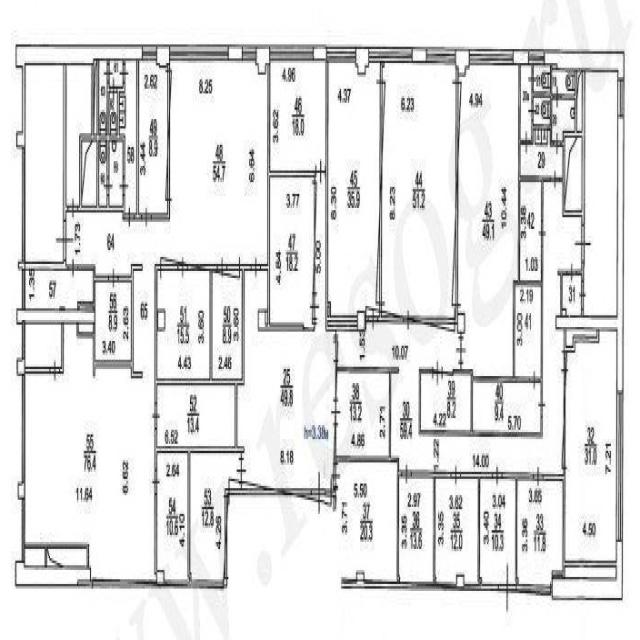Bathrooms: (120, 63, 137, 211), (522, 130, 562, 174), (553, 100, 575, 140), (110, 144, 122, 207), (554, 72, 575, 92), (534, 98, 550, 124), (100, 62, 106, 131), (534, 67, 550, 91), (100, 142, 106, 203), (110, 62, 122, 85), (110, 95, 117, 131)
Corridors: (25, 65, 267, 578), (339, 187, 580, 472), (239, 176, 334, 485), (140, 62, 167, 211), (481, 481, 515, 584), (474, 383, 540, 430), (422, 375, 470, 432), (26, 273, 92, 306), (516, 286, 540, 376), (520, 183, 540, 279), (26, 327, 60, 367), (521, 65, 531, 140), (564, 277, 580, 313)
Doors: (311, 470, 331, 518), (498, 561, 515, 613), (55, 220, 73, 261), (574, 225, 592, 261), (401, 307, 420, 331), (66, 257, 81, 280), (234, 458, 248, 481), (550, 166, 562, 192), (432, 358, 443, 386), (315, 157, 325, 186), (123, 203, 134, 229), (552, 131, 563, 157), (455, 337, 466, 363), (368, 308, 379, 333), (177, 253, 187, 280), (217, 255, 227, 282), (537, 219, 547, 246), (67, 196, 78, 220), (141, 205, 152, 229), (309, 292, 320, 316), (521, 129, 531, 155), (330, 401, 341, 424), (578, 281, 587, 309), (553, 84, 563, 109), (533, 465, 544, 487), (49, 359, 59, 383), (119, 172, 129, 196), (561, 356, 569, 386), (537, 395, 547, 419), (151, 403, 160, 429), (103, 63, 113, 86), (492, 464, 502, 487), (251, 256, 261, 278), (118, 62, 129, 82), (567, 261, 577, 283), (103, 176, 114, 195), (152, 469, 160, 495), (528, 100, 537, 123), (530, 369, 538, 393), (109, 267, 118, 288), (403, 462, 411, 485), (452, 463, 460, 486), (528, 69, 536, 89), (110, 76, 116, 102), (334, 333, 339, 362)
LBwalls: (555, 117, 625, 391), (15, 43, 142, 70), (545, 50, 625, 78), (15, 559, 90, 587), (552, 577, 622, 603), (256, 43, 269, 76), (455, 47, 469, 77), (356, 46, 368, 75), (513, 47, 529, 65), (616, 542, 623, 580), (156, 43, 169, 62), (413, 44, 425, 64), (313, 44, 326, 62), (157, 308, 166, 331), (258, 308, 267, 331), (229, 44, 241, 61), (357, 311, 366, 333), (457, 313, 465, 333)
Offices: (459, 68, 518, 374), (384, 68, 454, 311), (329, 65, 378, 312), (567, 332, 614, 558), (586, 74, 616, 312), (338, 462, 396, 578), (26, 67, 61, 259), (191, 455, 240, 577), (271, 180, 313, 322), (271, 64, 325, 168), (158, 272, 208, 377), (158, 387, 235, 446), (518, 482, 562, 583), (436, 481, 477, 583), (338, 374, 389, 454), (157, 454, 187, 578), (67, 67, 91, 202), (400, 481, 433, 579), (214, 274, 241, 378), (96, 283, 130, 360)
Walls: (78, 254, 311, 590), (16, 67, 143, 561), (418, 66, 550, 441), (330, 361, 498, 590), (502, 386, 616, 595), (267, 64, 317, 331), (420, 72, 463, 334), (78, 61, 127, 213), (374, 63, 402, 326), (151, 63, 174, 223), (562, 72, 586, 225), (531, 65, 574, 148), (81, 263, 108, 309), (134, 60, 141, 222), (325, 64, 328, 318), (62, 66, 66, 221), (326, 312, 358, 331), (557, 268, 567, 312), (576, 261, 584, 280), (365, 316, 368, 324), (66, 205, 68, 211)
Windows: (169, 42, 229, 63), (616, 391, 623, 542), (469, 47, 514, 67), (270, 43, 313, 62), (368, 46, 413, 64), (426, 44, 456, 64), (327, 44, 356, 63), (242, 42, 257, 63), (617, 77, 625, 116), (142, 43, 156, 62), (528, 50, 545, 64)
